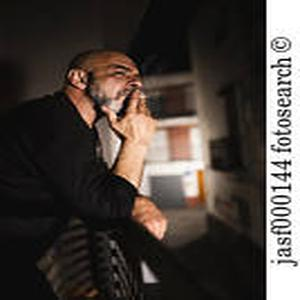cigarette: (139, 94, 150, 100)
